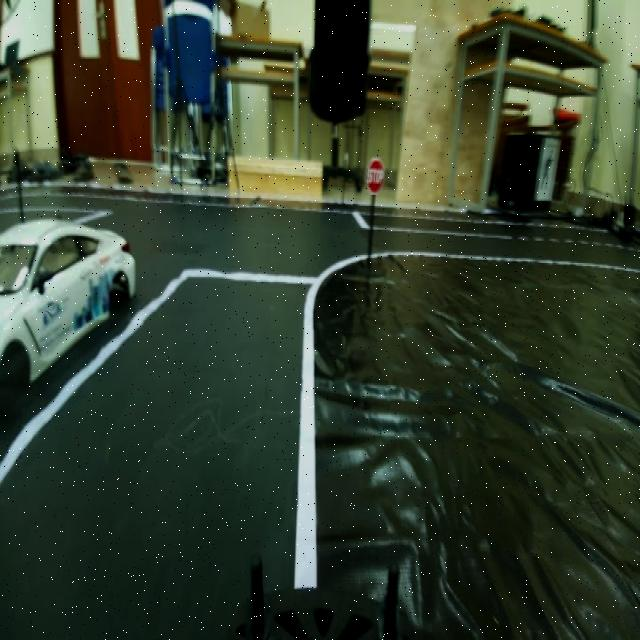stop: (361, 150, 391, 193)
